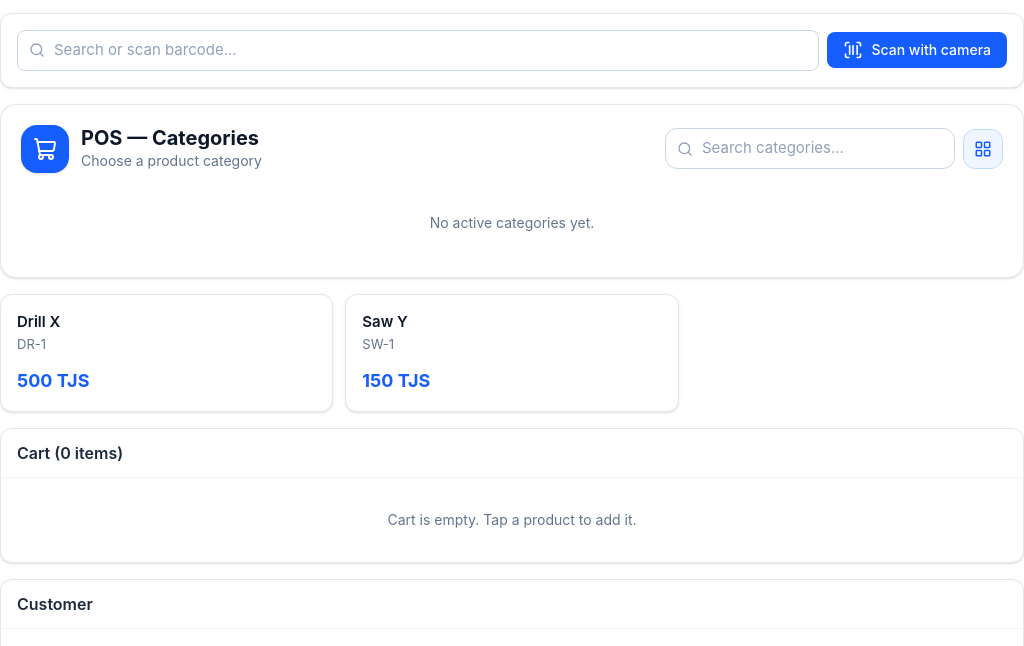
Test: PosPage › insufficient stock: lists the shortage and cancels the draft
This screenshot has width=1024, height=646.
What coordinates should you click on to do the following:
click the text "Drill X"
I would click on:
 (39, 322)
Its box is x1=17 y1=310 x2=60 y2=333.
(page scrolled)
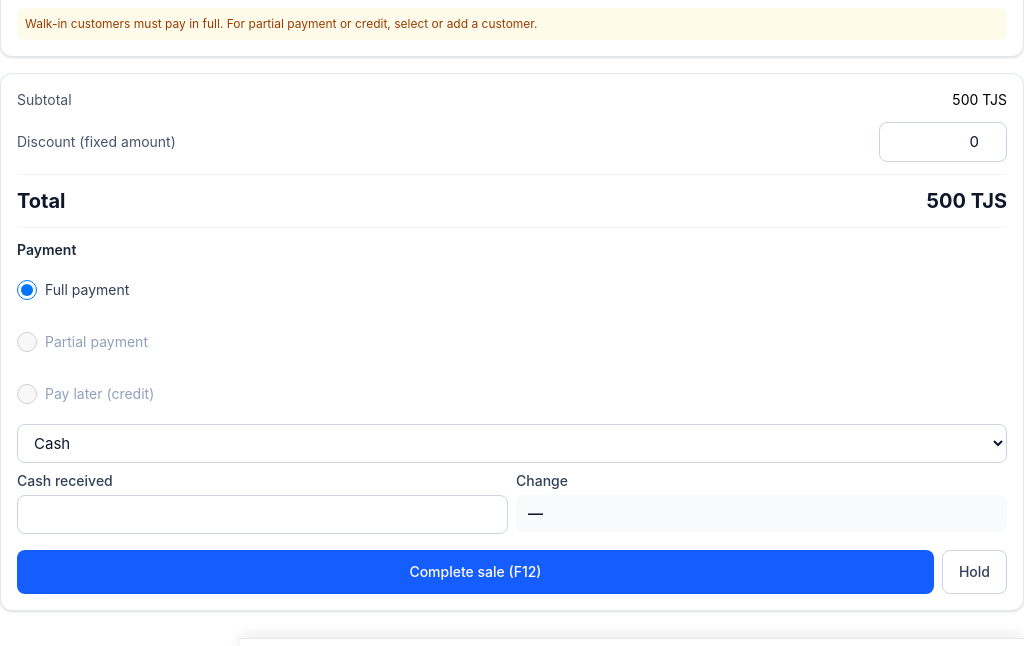
What coordinates should you click on to do the following:
click the button "Complete sale (F12)"
I would click on:
 (475, 572)
Its box is x1=17 y1=550 x2=934 y2=594.
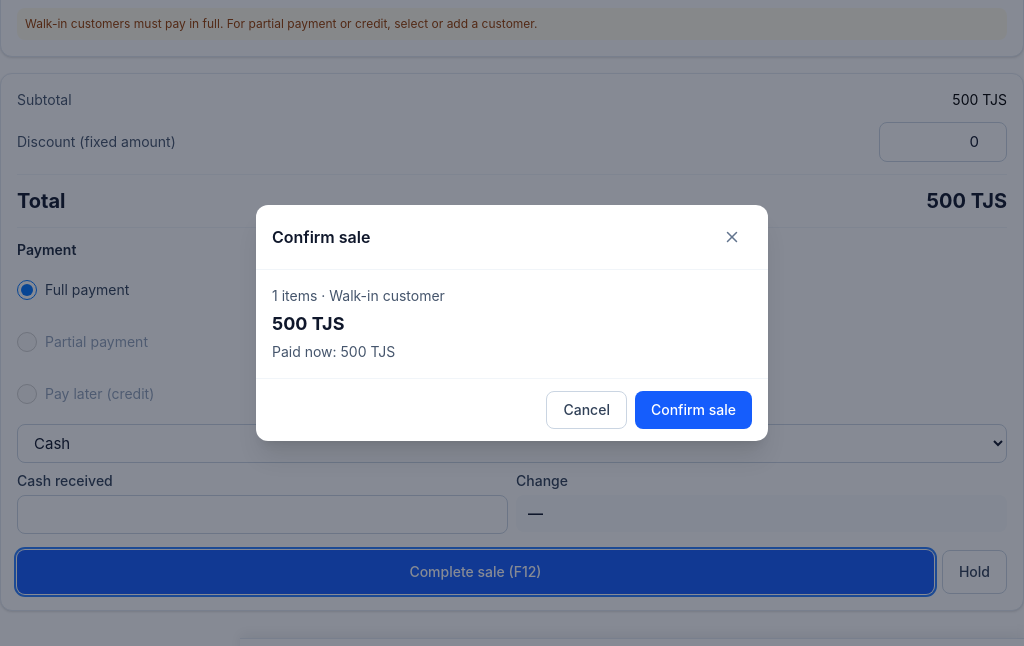
What coordinates should you click on to do the following:
click the button "Confirm sale"
I would click on:
 (694, 410)
Its box is x1=635 y1=391 x2=752 y2=429.
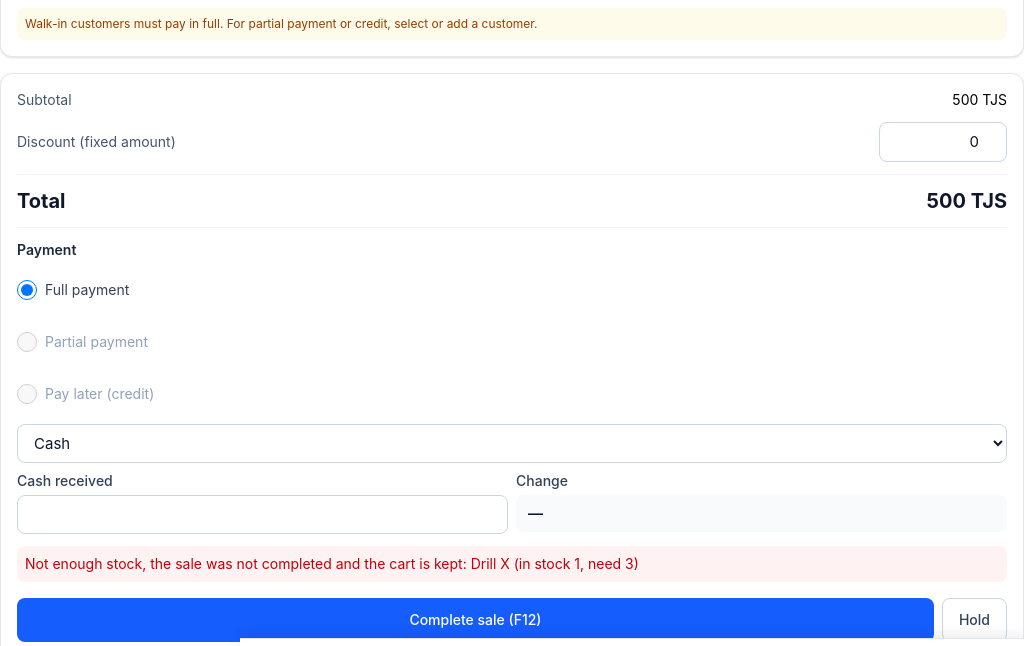
Result: the message shows "Not enough stock, the sale was not completed and the cart is kept:" at x1=25 y1=555 x2=639 y2=572
Result: the message shows "Drill X" at x1=25 y1=555 x2=639 y2=572
